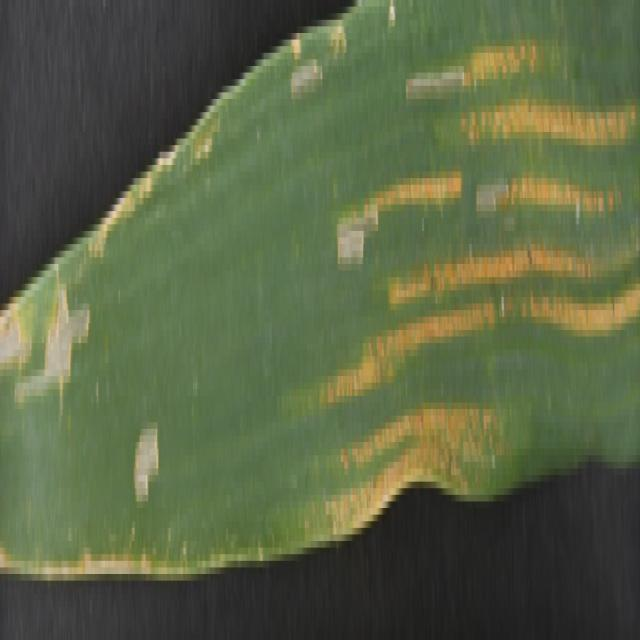leaf rust: (320, 33, 638, 501)
